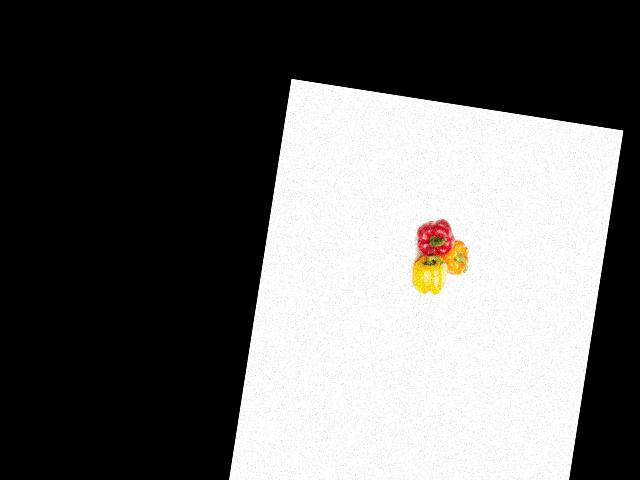bell_pepper: (406, 253, 450, 297)
